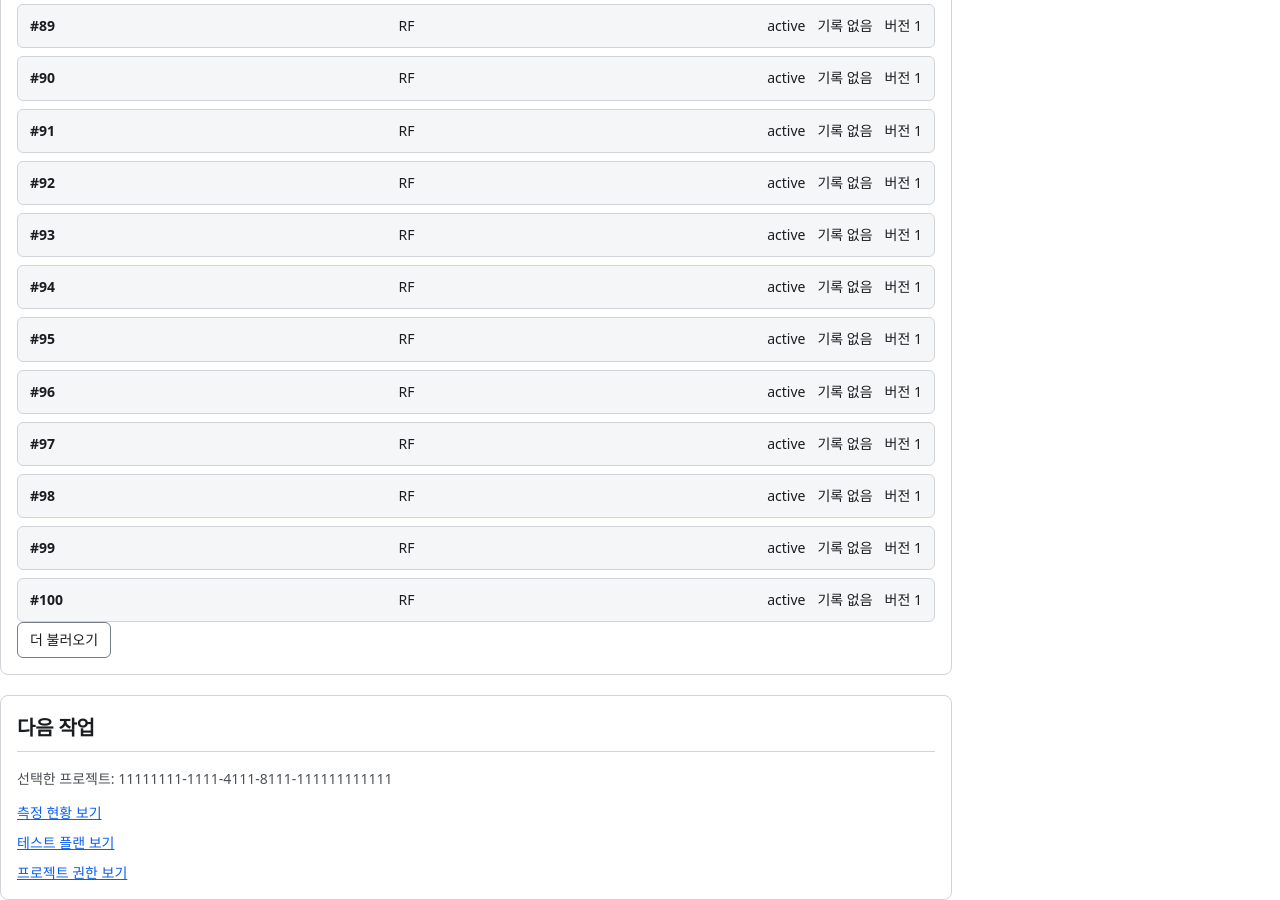
Scenario: InventoryRoute direct CRUD surface › follows the opaque list cursor and renders all 101 distinct rows
(page scrolled)
Expected: the button with test id "inventory-sample-#100" is shown, [17,578,935,622]
Click the button with test id "inventory-load-more" at (64, 640), box [17,622,111,658]
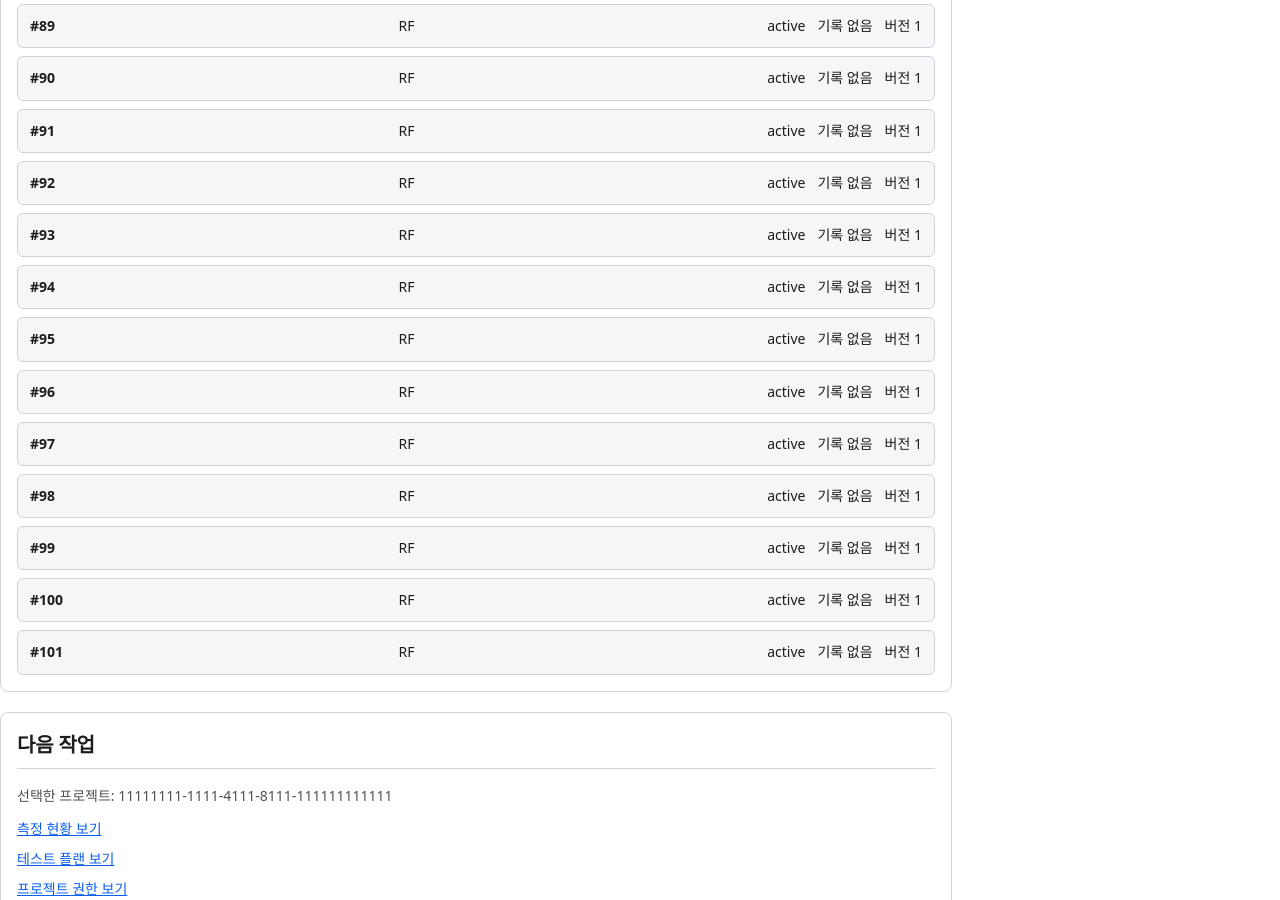
Now the button with test id "inventory-sample-#101" is shown, box [17,630,935,675]
